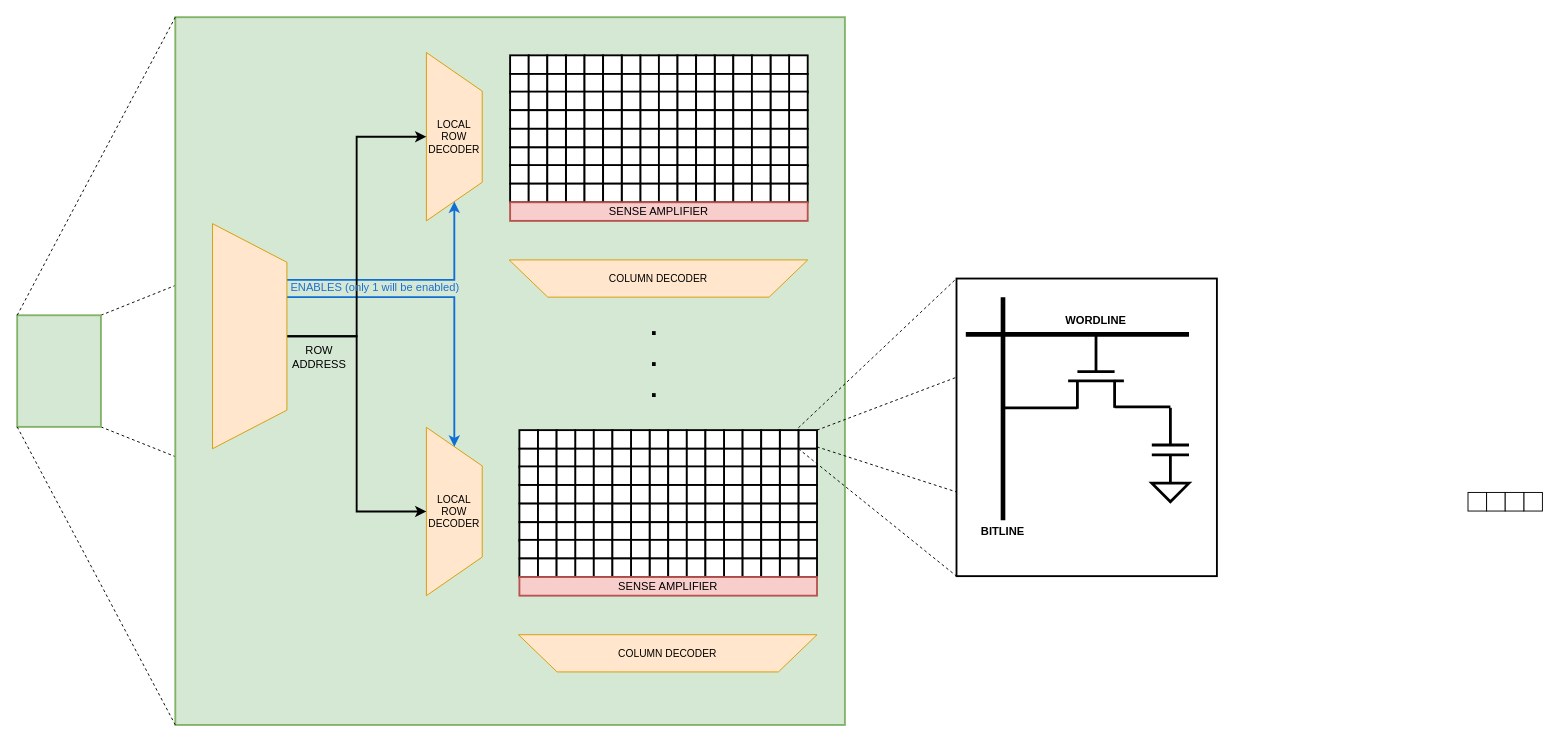
This 1559x742 diagram has some shape labels left out. Here are the shapes that lost their labels. From the top down, the centre of each, then its label:
At point (249, 336): "GLOBAL ROW DECODER".
At point (58, 370): "BANK 0".
